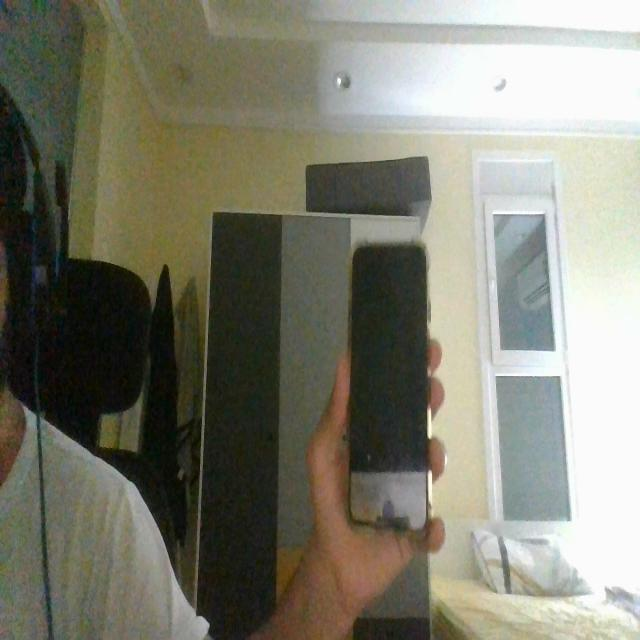Phone: (342, 237, 436, 542)
